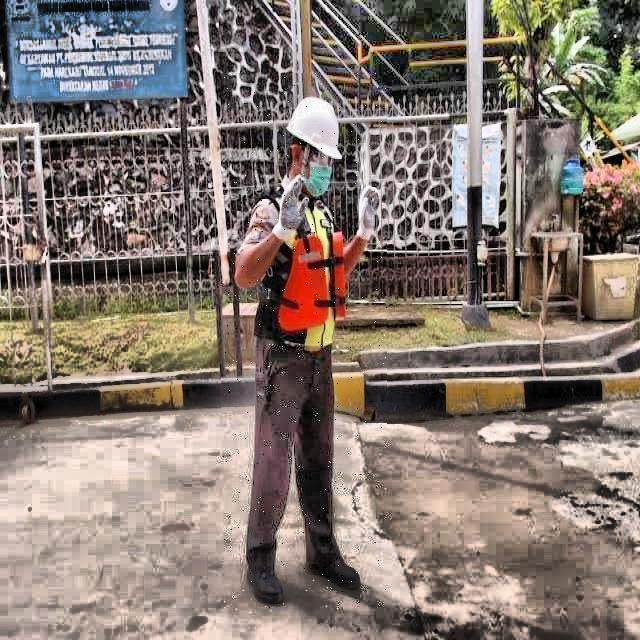safety_helmet: (283, 91, 348, 163)
safety_jacket: (262, 192, 356, 353)
